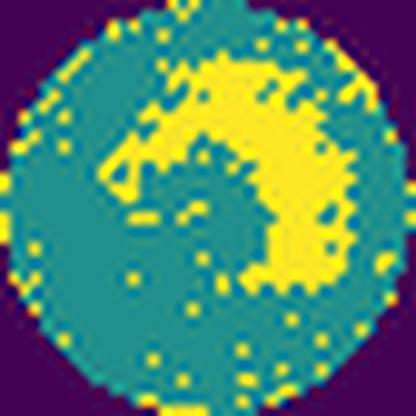Donut: (88, 47, 362, 294)
